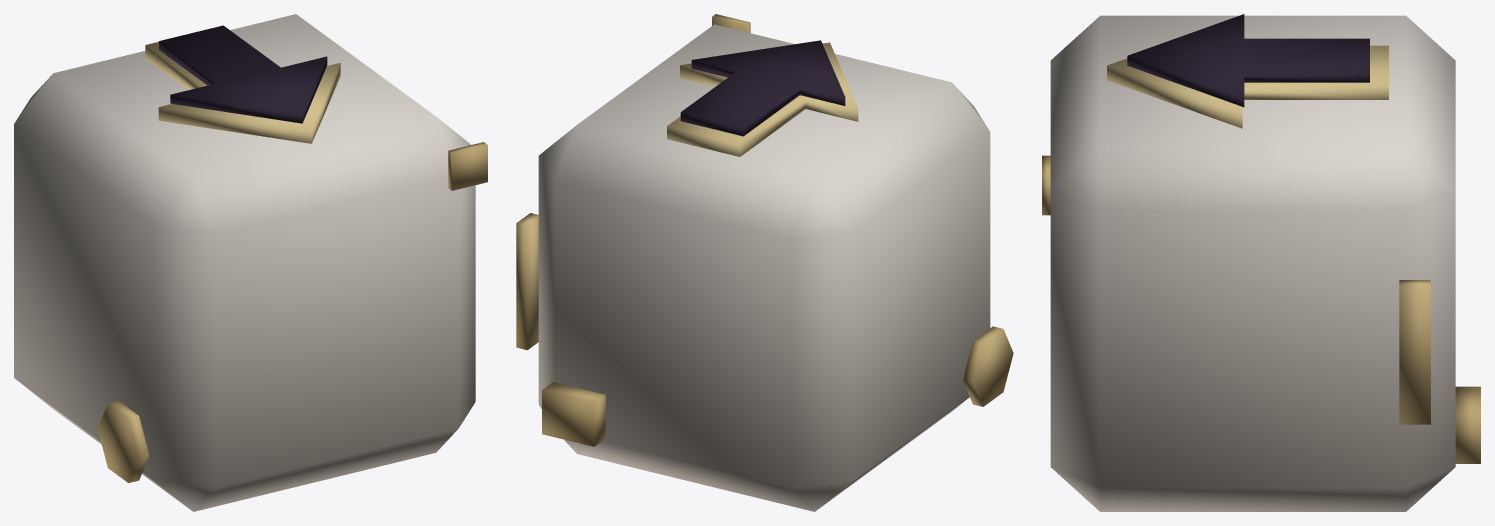
The model's file is pirinc_lod2.glb.
3 renders of one model, left to right at view 1: azimuth 30°, elevation 25°; view 2: azimuth 150°, elevation 25°; view 3: azimuth 270°, elevation 25°, orthographic. The views are drawn at different scales.
Parts seen in each view (by area): view 1: pirinc_lod2; view 2: pirinc_lod2; view 3: pirinc_lod2.
Part boxes in pixels (x1=…): pirinc_lod2: x1=14, y1=14, x2=487, y2=511; pirinc_lod2: x1=516, y1=14, x2=1013, y2=511; pirinc_lod2: x1=1042, y1=14, x2=1480, y2=511.
Size of the model in its own units: 0.987 by 0.96 by 0.975.
